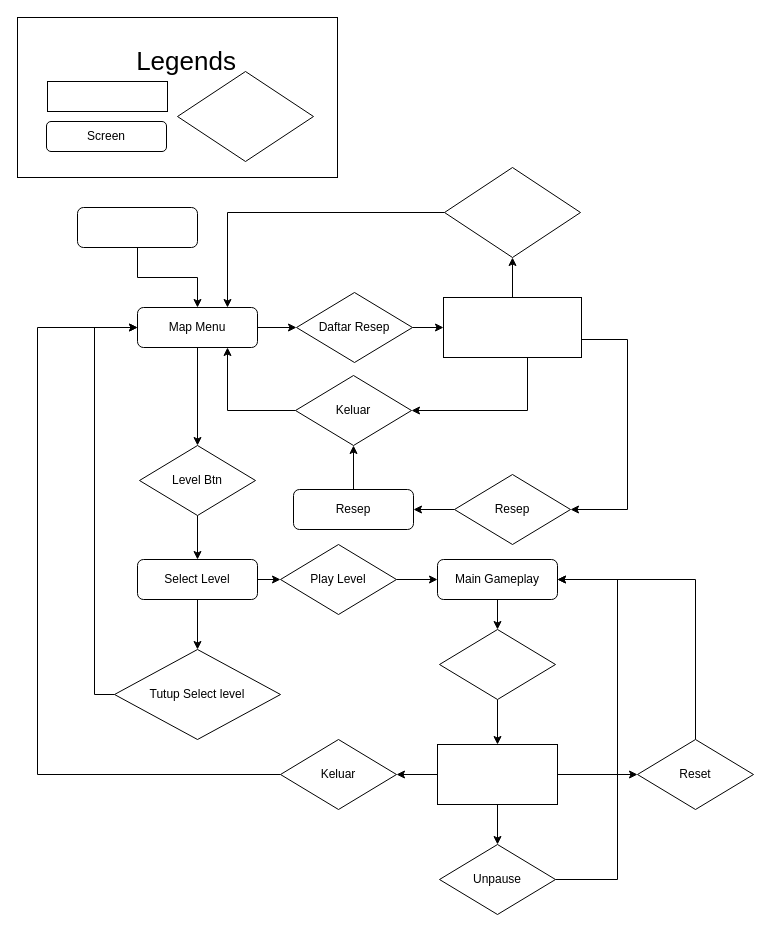
The diagram is 771 pixels wide and 932 high, and some of its shapes have lost their labels. The centre of each missing label's shape, as x and y in pixels:
Button: point 245,116
Daftar Resep Panel: point 512,327
Panel: point 107,96
Pause: point 497,664
Pause Panel: point 497,774
Splash Screen: point 137,227
Tutup Daftar Resep: point 512,212
